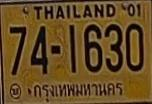0: (125, 23, 143, 70)
1: (69, 24, 75, 71)
3: (104, 23, 122, 72)
4: (30, 25, 47, 74)
6: (84, 23, 102, 72)
7: (9, 26, 26, 74)
BKK: (30, 79, 125, 102)
